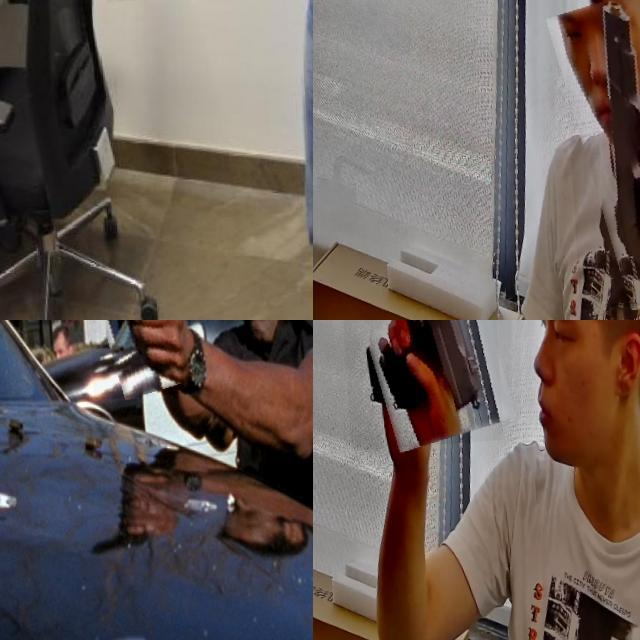-: (100, 0, 208, 27)
gun-knife-thesis - v11 Yolov5 augmented: (559, 0, 640, 315), (333, 320, 499, 472), (81, 320, 180, 414)
